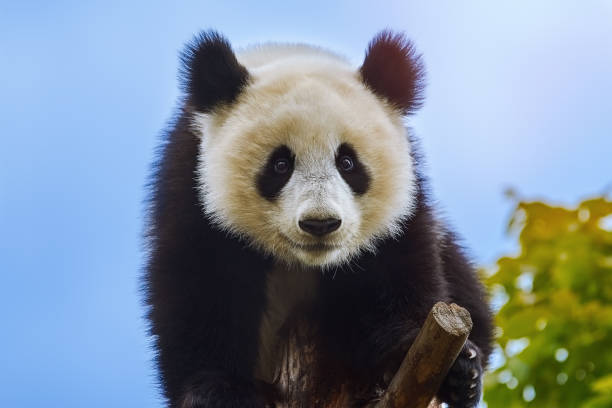panda: (142, 1, 444, 268)
